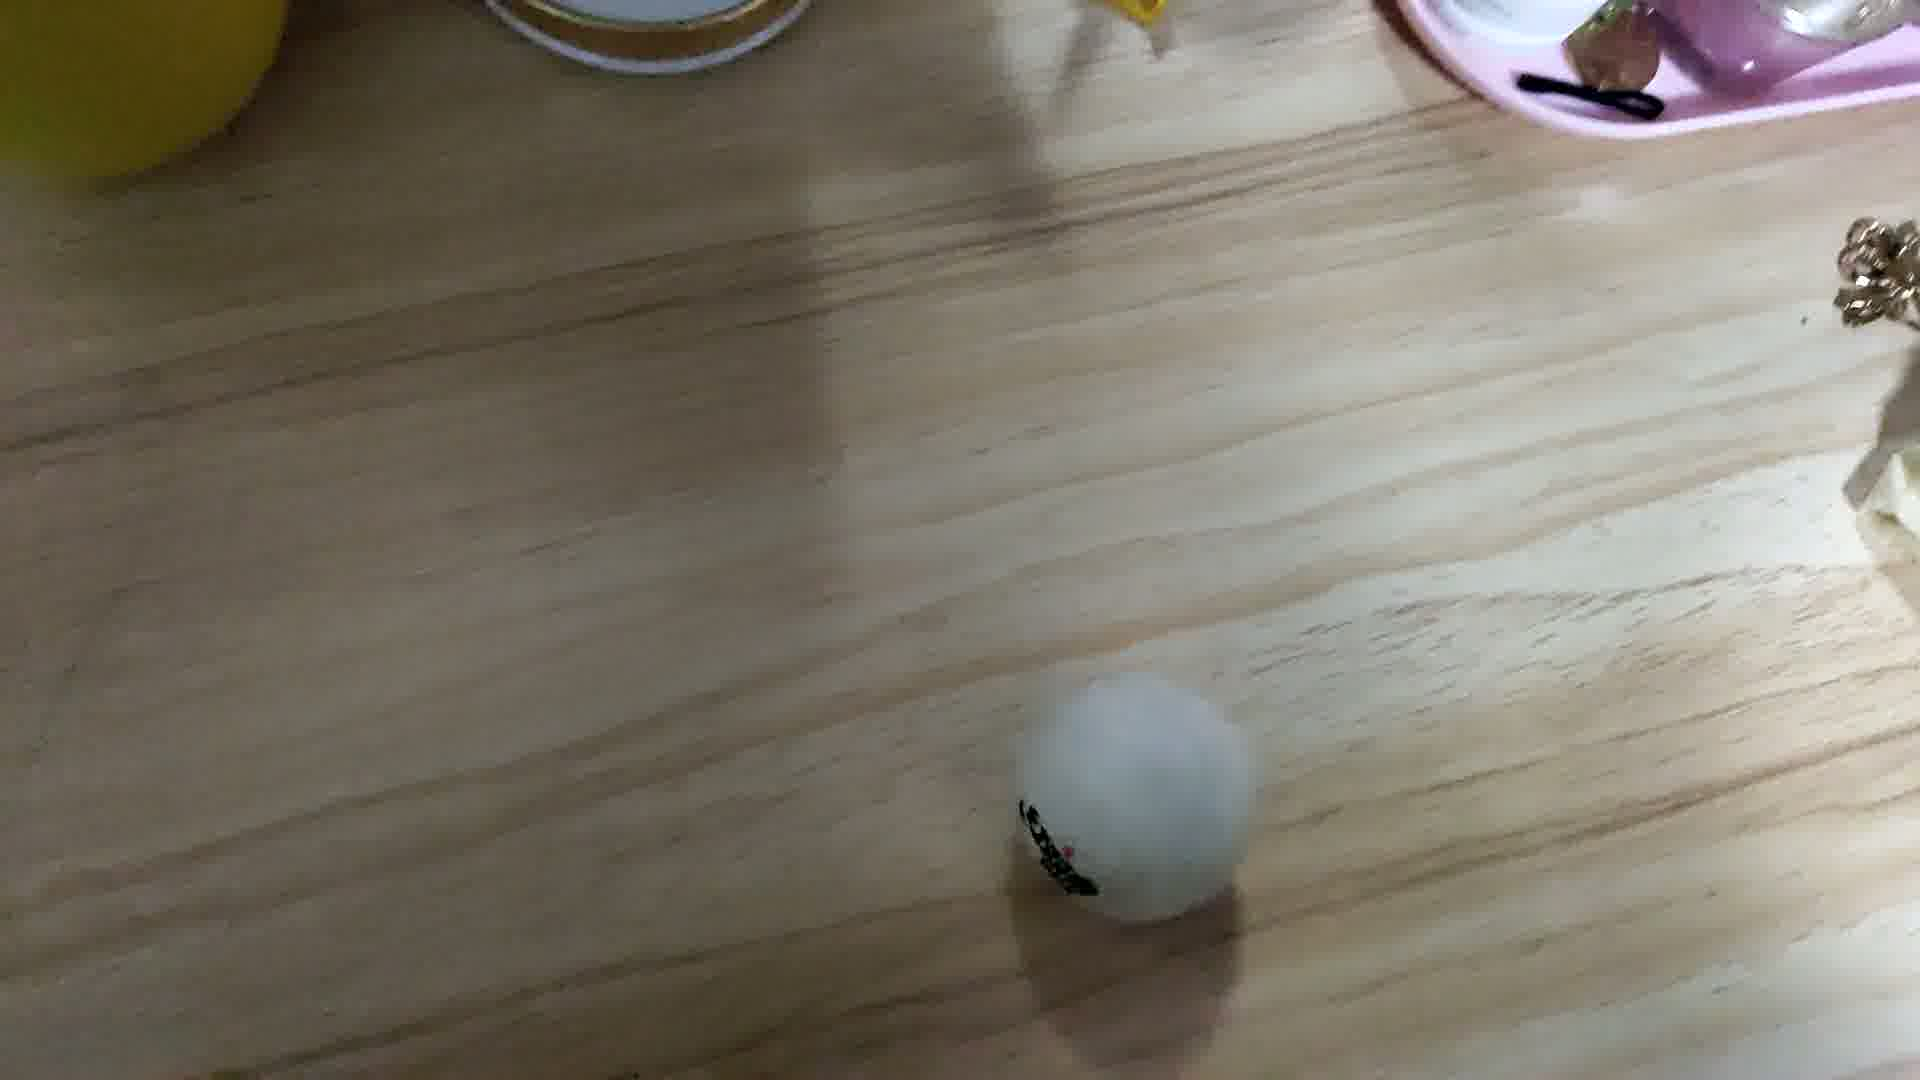Ball: (1014, 671, 1255, 916)
